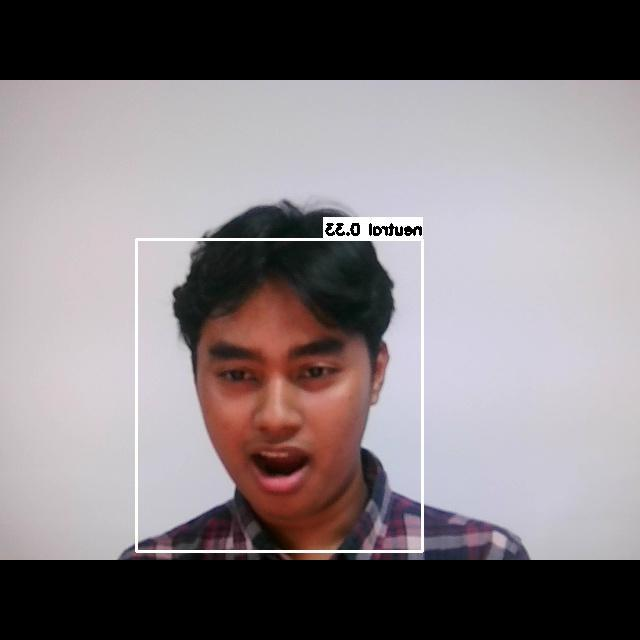Surprised: (168, 295, 394, 498)
